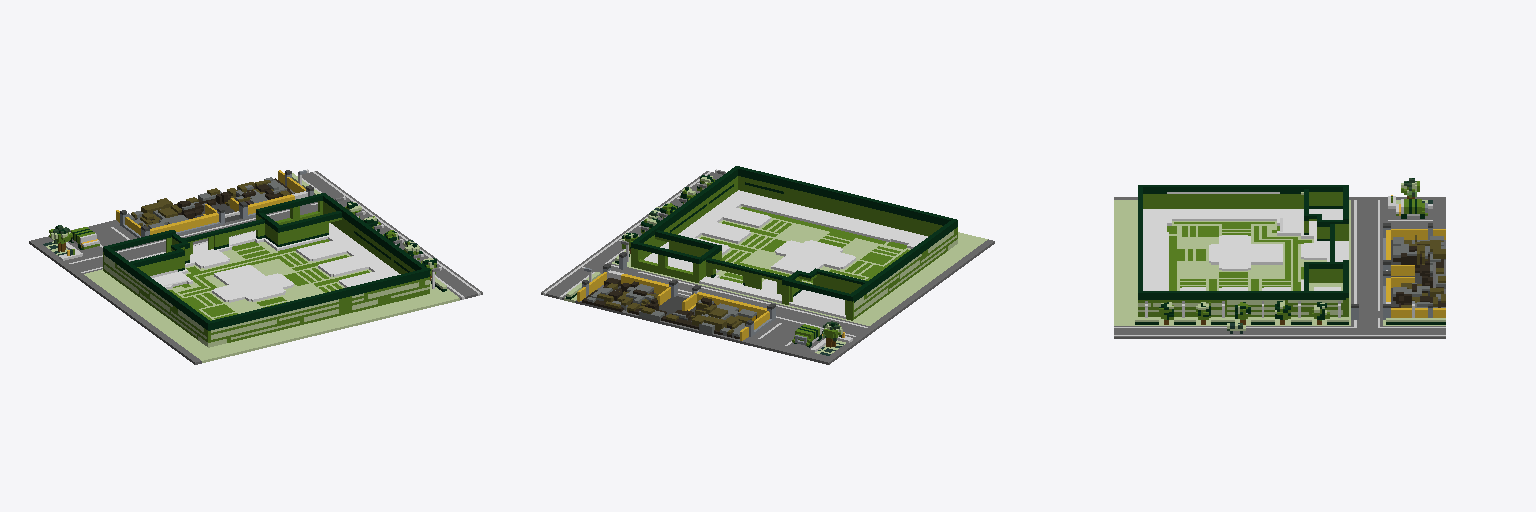
3 views of the same model, side by side, from view 1: azimuth 30°, elevation 25°; view 2: azimuth 150°, elevation 25°; view 3: azimuth 270°, elevation 25° (orthographic).
Size of the model in its own units: 126 by 11 by 126.
1 materials, 1 textured.